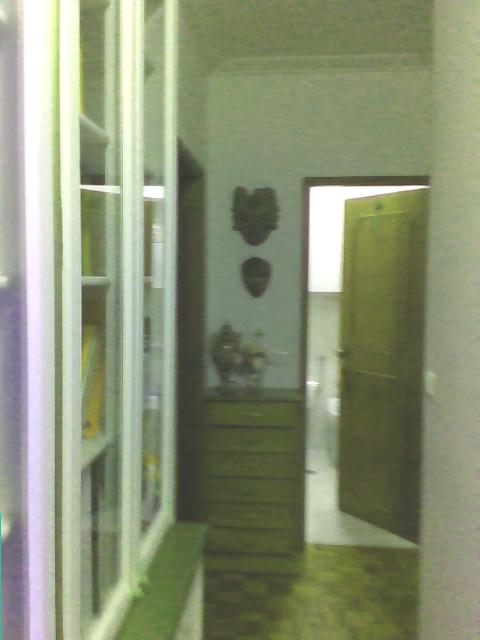semi_door: (298, 173, 430, 547)
